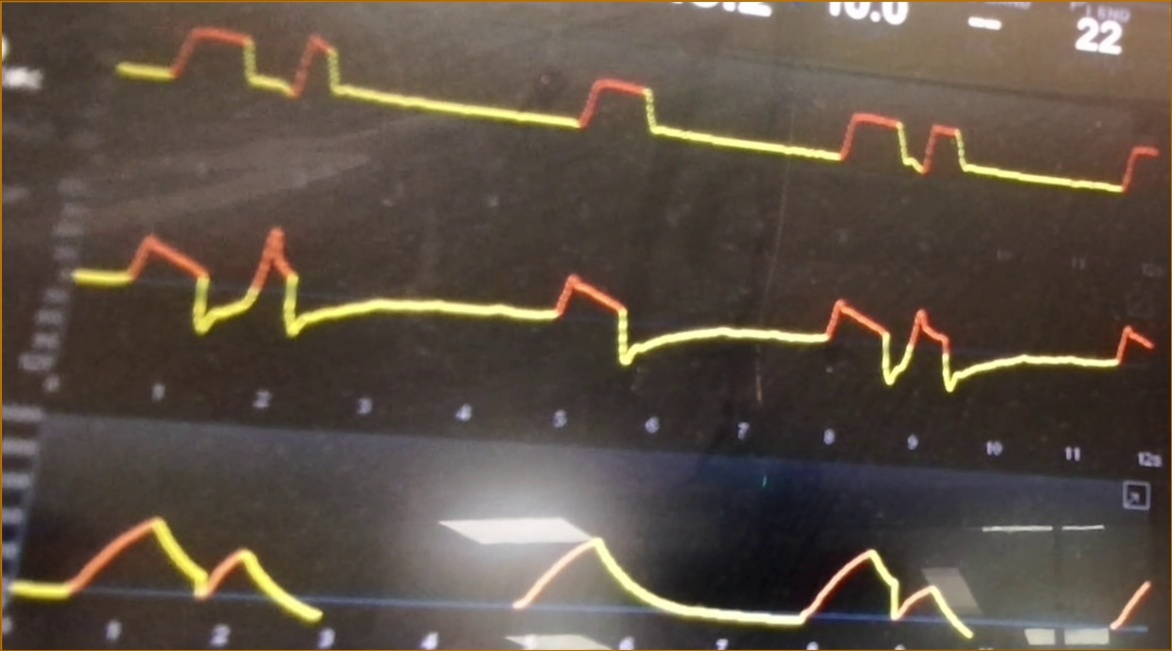Double_Triggering Flow: (79, 215, 1150, 398)
Double_Triggering Volume: (17, 504, 1147, 638)
